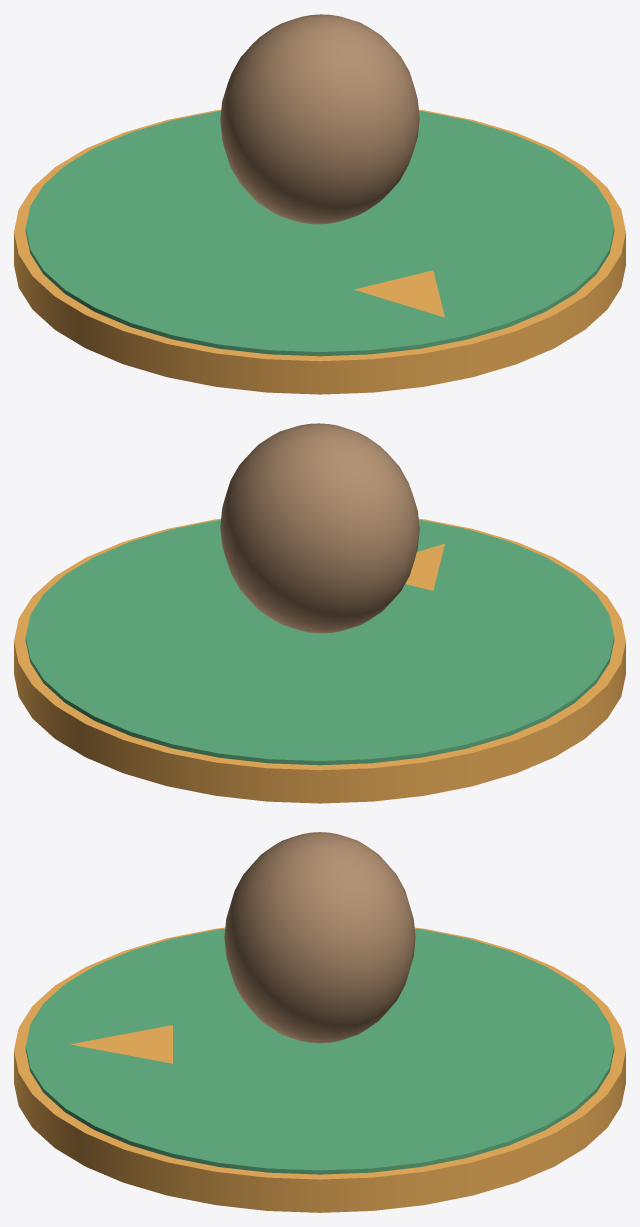
File: dept4.glb
The picture shows the model from 3 angles, top to bottom: view 1: azimuth 30°, elevation 25°; view 2: azimuth 150°, elevation 25°; view 3: azimuth 270°, elevation 25°; orthographic projection.
Visible parts, largest first — view 1: PedestalBase, BeaverBody, PedestalRim, PedestalAccent; view 2: PedestalBase, BeaverBody, PedestalRim, PedestalAccent; view 3: PedestalBase, BeaverBody, PedestalRim, PedestalAccent.
Part boxes in pixels (<box>): PedestalBase: <box>25,110,614,356</box>; BeaverBody: <box>220,14,419,224</box>; PedestalRim: <box>14,109,625,394</box>; PedestalAccent: <box>354,270,444,317</box>; PedestalBase: <box>25,519,614,765</box>; BeaverBody: <box>220,423,419,633</box>; PedestalRim: <box>14,518,625,803</box>; PedestalAccent: <box>405,543,444,590</box>; PedestalBase: <box>25,928,614,1174</box>; BeaverBody: <box>224,832,415,1043</box>; PedestalRim: <box>14,927,625,1212</box>; PedestalAccent: <box>70,1025,172,1063</box>.
Bounding box in the file's own units: 3.33 × 1.48 × 3.33.
